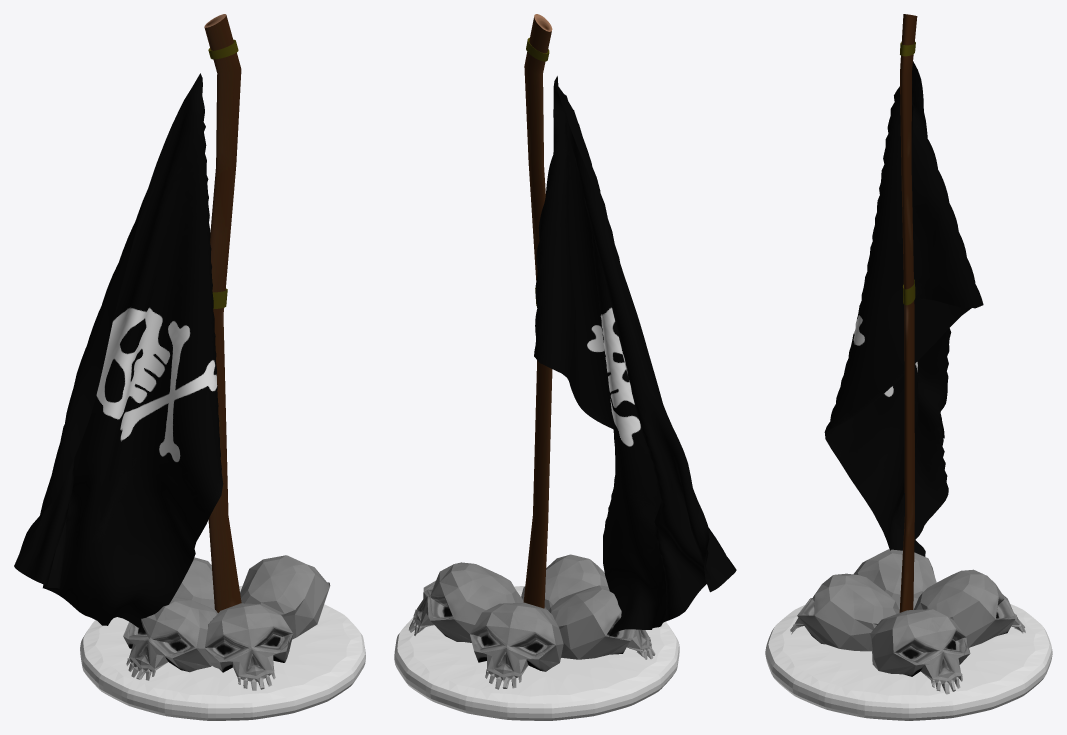
Rendered from flag.fbx.
The picture shows the model from 3 angles, left to right: view 1: azimuth 30°, elevation 25°; view 2: azimuth 150°, elevation 25°; view 3: azimuth 270°, elevation 25°; orthographic projection.
Visible parts, largest first — view 1: Flag, Socle, Mat; view 2: Flag, Socle, Mat; view 3: Socle, Flag, Mat.
Boxes of the visible parts, left/top/right/bottom form: Flag: left=14, top=73, right=223, bottom=627; Socle: left=80, top=555, right=365, bottom=720; Mat: left=204, top=14, right=241, bottom=612; Flag: left=534, top=76, right=736, bottom=636; Socle: left=394, top=554, right=679, bottom=720; Mat: left=523, top=14, right=552, bottom=608; Socle: left=765, top=549, right=1052, bottom=720; Flag: left=824, top=61, right=983, bottom=556; Mat: left=899, top=14, right=917, bottom=612.
Size of the model in its own units: 46.96 by 91.92 by 36.79.
